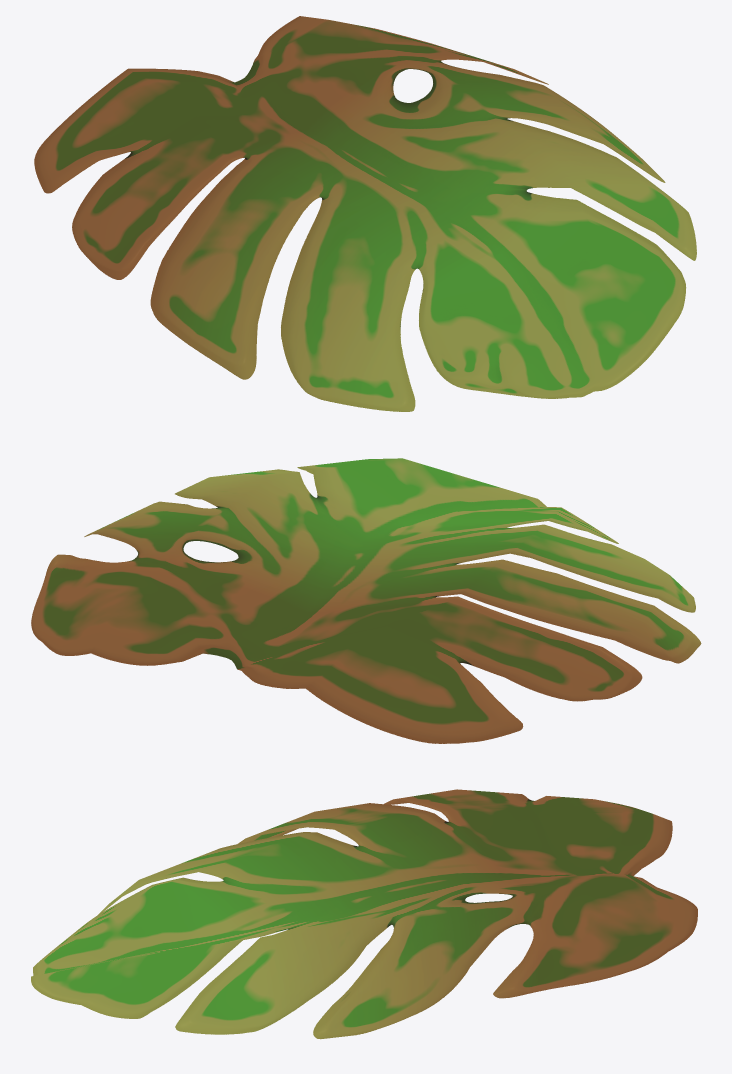
Rendered from SM_Low_Medium_Plant_02_C_Curve.fbx.
3 renders of one model, top to bottom at view 1: azimuth 30°, elevation 25°; view 2: azimuth 150°, elevation 25°; view 3: azimuth 270°, elevation 25°, orthographic. The views are drawn at different scales.
Parts seen in each view (by area): view 1: SM_LOW_O_LEAF_C; view 2: SM_LOW_O_LEAF_C; view 3: SM_LOW_O_LEAF_C.
Boxes of the visible parts, x1=… form: SM_LOW_O_LEAF_C: x1=34, y1=16, x2=696, y2=411; SM_LOW_O_LEAF_C: x1=31, y1=458, x2=701, y2=743; SM_LOW_O_LEAF_C: x1=31, y1=789, x2=697, y2=1039.
Bounding box in the file's own units: 50.03 × 12.49 × 59.89.
Materials: 1 (1 with a texture image).
